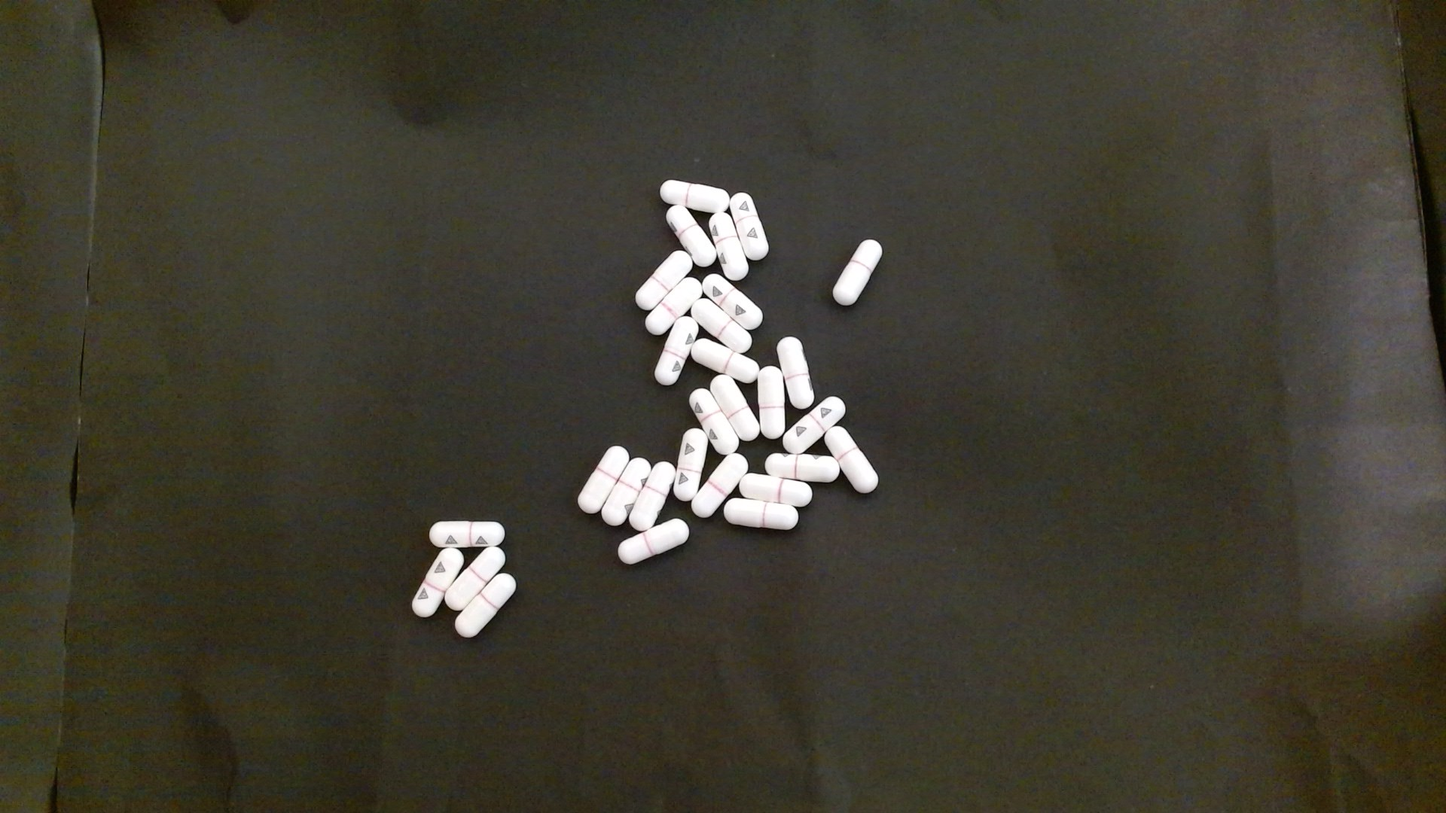Capsule: (454, 571, 518, 638), (444, 547, 507, 611), (634, 250, 696, 314), (576, 444, 630, 516), (822, 425, 877, 495), (644, 274, 705, 337), (782, 396, 847, 455), (693, 452, 749, 520), (701, 273, 763, 333), (832, 239, 884, 308), (412, 547, 464, 616), (687, 387, 739, 456), (691, 297, 756, 352), (709, 374, 760, 444), (602, 457, 651, 526), (618, 517, 688, 565), (691, 337, 758, 385), (666, 205, 716, 269), (630, 461, 676, 530), (656, 315, 700, 385), (671, 428, 707, 503), (728, 192, 767, 261), (776, 336, 813, 408), (710, 210, 748, 279), (763, 453, 842, 484), (724, 498, 800, 530), (661, 179, 728, 215), (740, 473, 812, 505), (429, 519, 503, 548), (758, 365, 786, 437)
